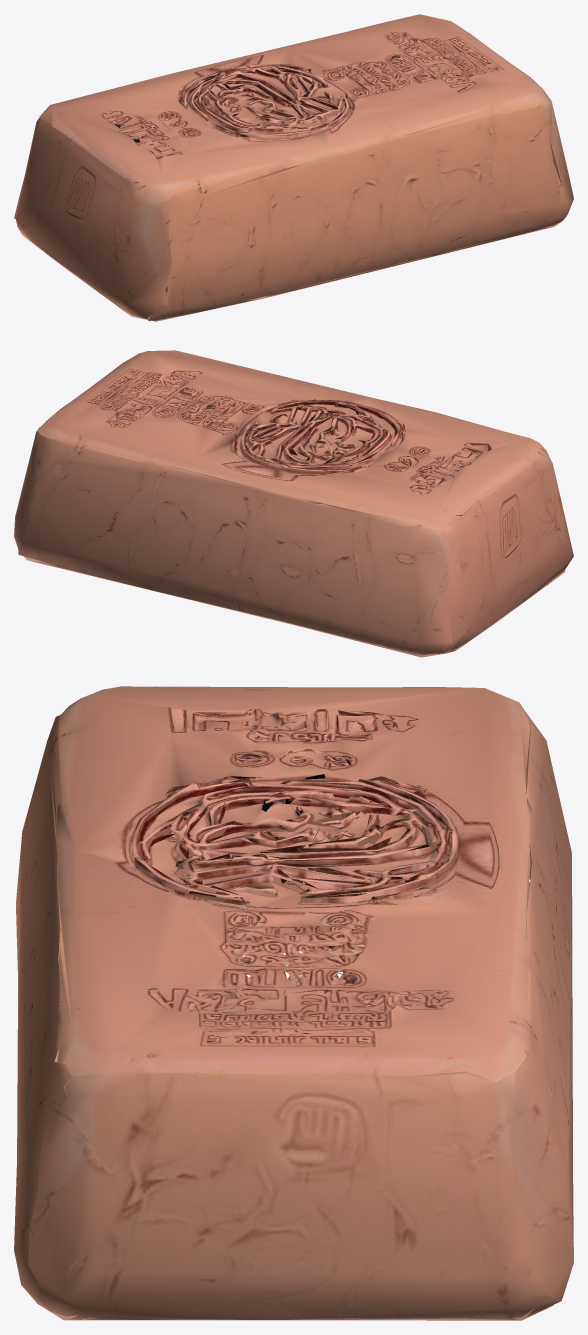
Rendered from copper_bar.glb.
3 views of the same model, one above another, from view 1: azimuth 30°, elevation 25°; view 2: azimuth 150°, elevation 25°; view 3: azimuth 270°, elevation 25° (orthographic). The views are drawn at different scales.
Visible parts, largest first — view 1: Object_4; view 2: Object_4; view 3: Object_4.
Boxes of the visible parts, <box> form: Object_4: <box>14,14,573,321</box>; Object_4: <box>14,350,573,657</box>; Object_4: <box>14,686,573,1320</box>.
Bounding box in the file's own units: 2.01 × 0.6135 × 1.12.
1 material, 1 textured.
